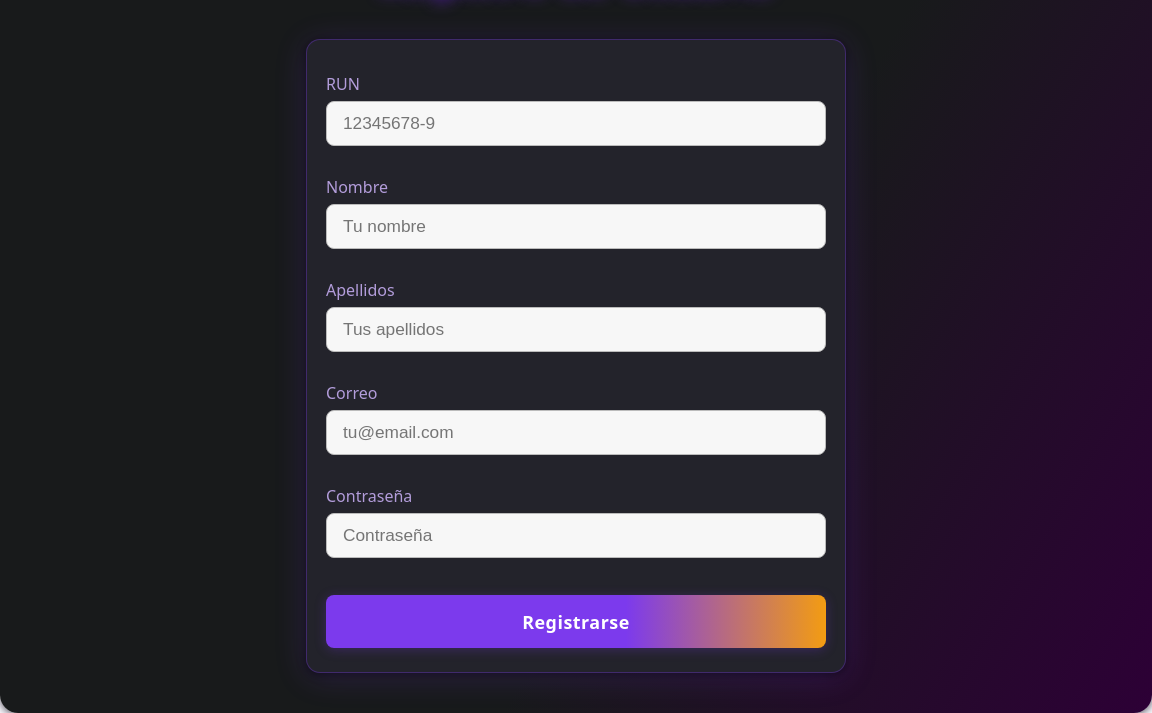
Test: Registro Component › muestra error si los campos están vacíos y se intenta enviar
(page scrolled)
Click the button "Registrarse" at point(576, 622), box [326,595,826,648]
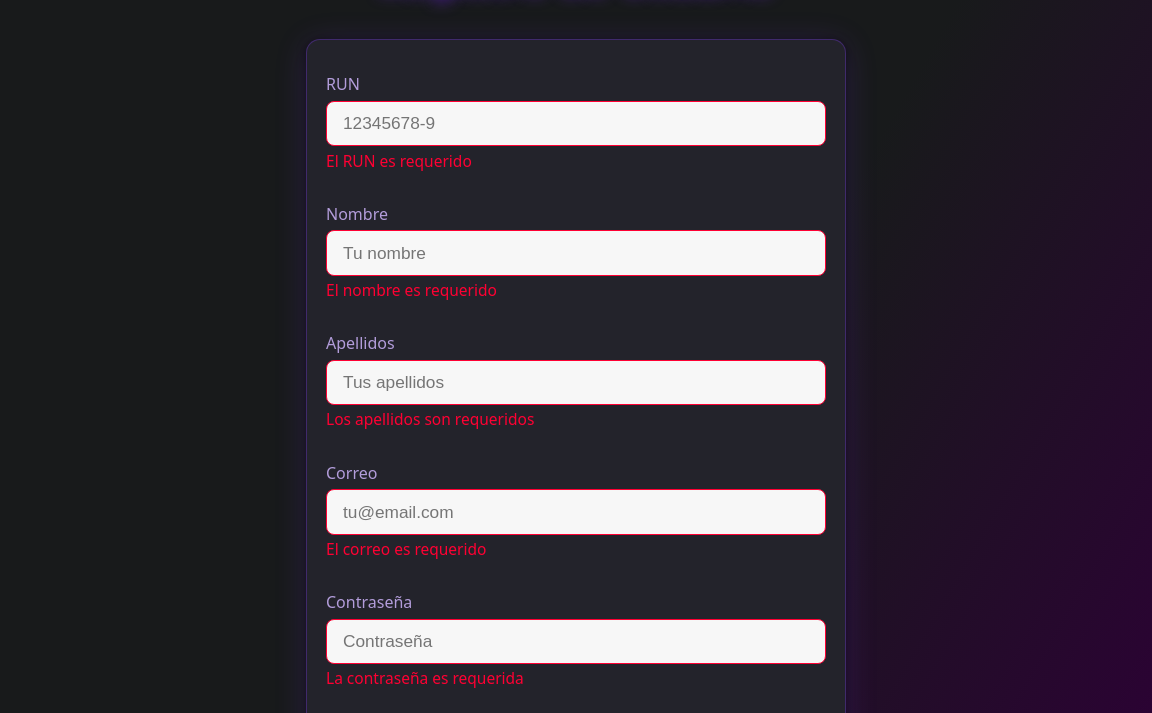
Expected: the text "El nombre es requerido" is shown, [326,279,497,301]
Expected: the text "Los apellidos son requeridos" is shown, [326,408,534,430]
Expected: the text "El correo es requerido" is shown, [326,538,486,560]
